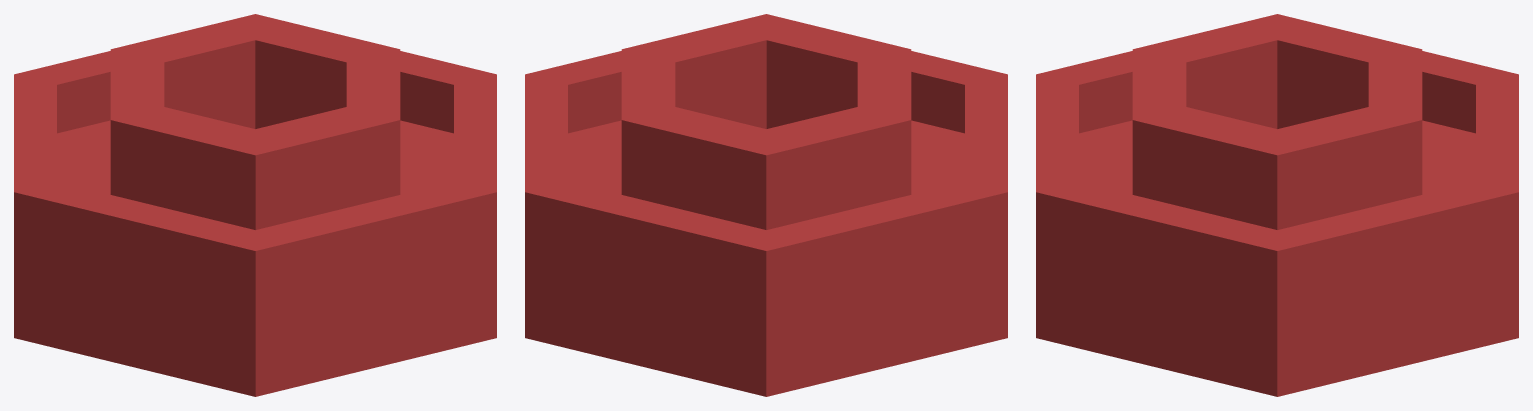
Rendered from Piece_2.fbx.
3 renders of one model, left to right at view 1: azimuth 30°, elevation 25°; view 2: azimuth 150°, elevation 25°; view 3: azimuth 270°, elevation 25°, orthographic.
Parts seen in each view (by area): view 1: 개체_1; view 2: 개체_1; view 3: 개체_1.
Boxes of the visible parts, x1,y1,x2,y2 form: 개체_1: (14, 14, 496, 396); 개체_1: (525, 14, 1007, 396); 개체_1: (1036, 14, 1518, 396).
Size of the model in its own units: 5.2 by 4.5 by 2.
